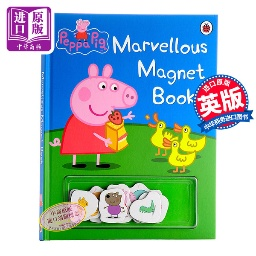Peppa: (52, 62, 139, 170)
